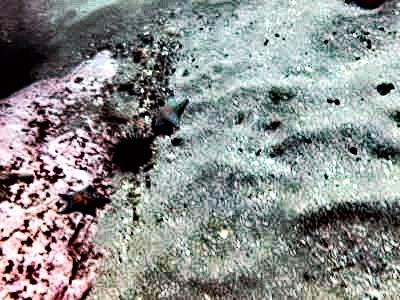urchin: (106, 127, 157, 172)
